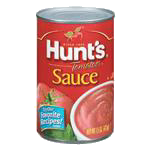grozi_80: (35, 7, 115, 143)
